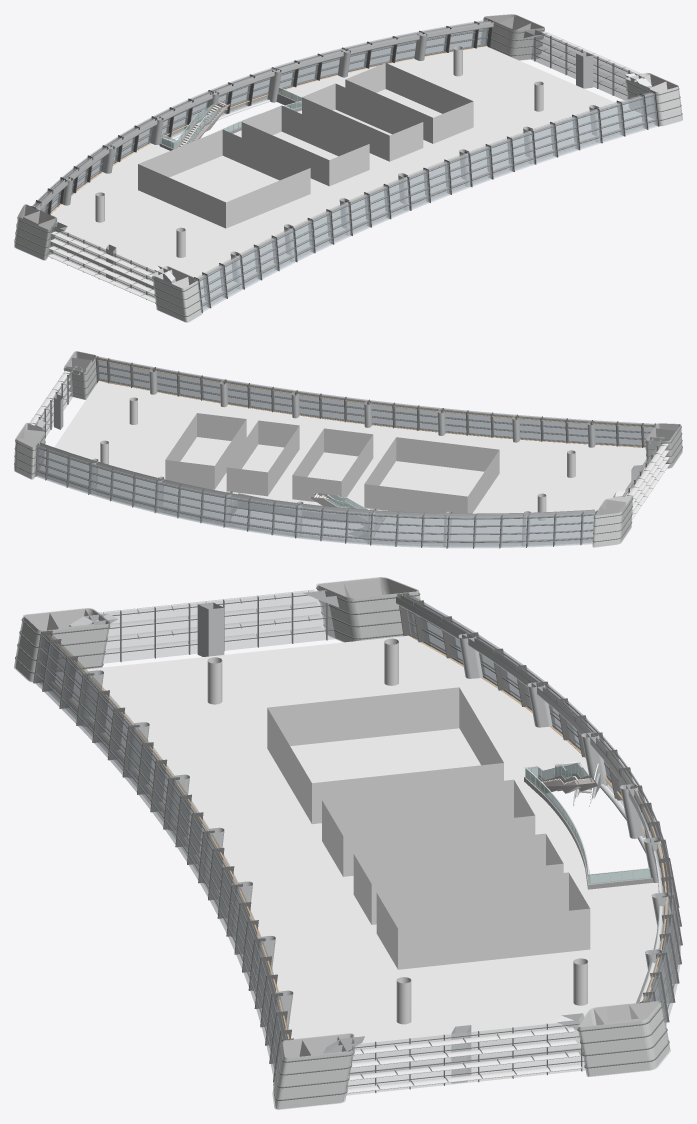
The picture shows the model from 3 angles, top to bottom: view 1: azimuth 30°, elevation 25°; view 2: azimuth 150°, elevation 25°; view 3: azimuth 270°, elevation 25°; orthographic projection. The views are drawn at different scales.
Parts seen in each view (by area): view 1: floor.064; view 2: floor.064; view 3: floor.064.
Boxes of the visible parts, x1=… form: floor.064: x1=14, y1=14, x2=682, y2=322; floor.064: x1=14, y1=351, x2=682, y2=548; floor.064: x1=14, y1=577, x2=682, y2=1109.
Bounding box in the file's own units: 80.78 × 4.75 × 47.24.
18 materials, 1 textured.
